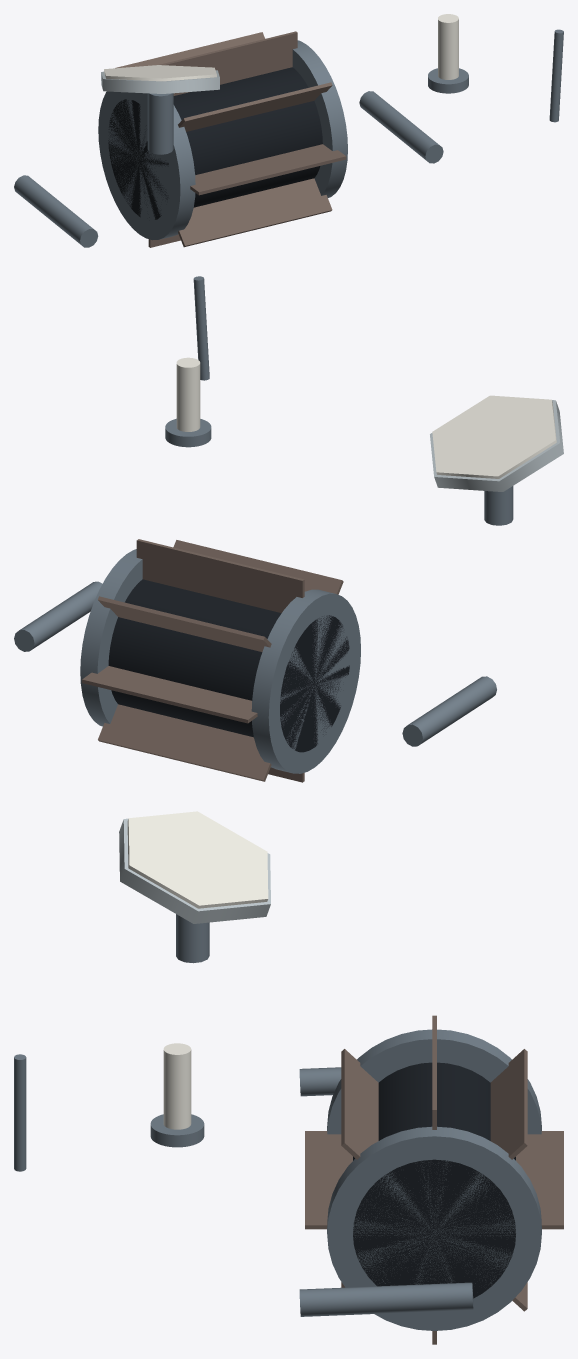
Rendered from perseverance_power_comms.glb.
3 views of the same model, one above another, from view 1: azimuth 30°, elevation 25°; view 2: azimuth 150°, elevation 25°; view 3: azimuth 270°, elevation 25° (orthographic). The views are drawn at different scales.
Parts seen in each view (by area): view 1: perseverance_power_comms.mmrtg.mesh_Heat-stained_alloy, perseverance_power_comms.mmrtg.mesh_Carbon_composite, perseverance_power_comms.mmrtg.mesh_Machined_steel, perseverance_power_comms.mesh_Machined_steel, perseverance_power_comms.high_gain.mesh_Machined_steel, perseverance_power_comms.high_gain.elevation.mesh_Satin_alum, perseverance_power_comms.high_gain.elevation.mesh_Warm_white, perseverance_power_comms.low_gain.mesh_Warm_white_enamel, perseverance_power_comms.uhf.mesh_Machined_steel, perseverance_power_comms.low_gain.mesh_Machined_steel; view 2: perseverance_power_comms.mmrtg.mesh_Heat-stained_alloy, perseverance_power_comms.mmrtg.mesh_Carbon_composite, perseverance_power_comms.mmrtg.mesh_Machined_steel, perseverance_power_comms.high_gain.elevation.mesh_Warm_white, perseverance_power_comms.mesh_Machined_steel, perseverance_power_comms.high_gain.elevation.mesh_Satin_alum, perseverance_power_comms.low_gain.mesh_Warm_white_enamel, perseverance_power_comms.uhf.mesh_Machined_steel, perseverance_power_comms.high_gain.mesh_Machined_steel, perseverance_power_comms.low_gain.mesh_Machined_steel; view 3: perseverance_power_comms.mmrtg.mesh_Machined_steel, perseverance_power_comms.mmrtg.mesh_Carbon_composite, perseverance_power_comms.mmrtg.mesh_Heat-stained_alloy, perseverance_power_comms.high_gain.elevation.mesh_Warm_white, perseverance_power_comms.mesh_Machined_steel, perseverance_power_comms.high_gain.elevation.mesh_Satin_alum, perseverance_power_comms.low_gain.mesh_Warm_white_enamel, perseverance_power_comms.uhf.mesh_Machined_steel, perseverance_power_comms.high_gain.mesh_Machined_steel, perseverance_power_comms.low_gain.mesh_Machined_steel.
Part boxes in pixels (bbox=[...]): perseverance_power_comms.mmrtg.mesh_Heat-stained_alloy: bbox=[115, 31, 346, 247]; perseverance_power_comms.mmrtg.mesh_Carbon_composite: bbox=[108, 67, 322, 219]; perseverance_power_comms.mmrtg.mesh_Machined_steel: bbox=[98, 40, 347, 240]; perseverance_power_comms.mesh_Machined_steel: bbox=[14, 91, 443, 247]; perseverance_power_comms.high_gain.mesh_Machined_steel: bbox=[147, 93, 173, 154]; perseverance_power_comms.high_gain.elevation.mesh_Satin_alum: bbox=[101, 70, 219, 93]; perseverance_power_comms.high_gain.elevation.mesh_Warm_white: bbox=[104, 65, 216, 81]; perseverance_power_comms.low_gain.mesh_Warm_white_enamel: bbox=[438, 14, 458, 79]; perseverance_power_comms.uhf.mesh_Machined_steel: bbox=[549, 29, 563, 122]; perseverance_power_comms.low_gain.mesh_Machined_steel: bbox=[428, 68, 468, 93]; perseverance_power_comms.mmrtg.mesh_Heat-stained_alloy: bbox=[82, 539, 343, 782]; perseverance_power_comms.mmrtg.mesh_Carbon_composite: bbox=[108, 579, 349, 752]; perseverance_power_comms.mmrtg.mesh_Machined_steel: bbox=[80, 549, 360, 773]; perseverance_power_comms.high_gain.elevation.mesh_Warm_white: bbox=[432, 395, 556, 478]; perseverance_power_comms.mesh_Machined_steel: bbox=[14, 581, 496, 746]; perseverance_power_comms.high_gain.elevation.mesh_Satin_alum: bbox=[430, 400, 563, 491]; perseverance_power_comms.low_gain.mesh_Warm_white_enamel: bbox=[176, 357, 200, 431]; perseverance_power_comms.uhf.mesh_Machined_steel: bbox=[193, 276, 209, 380]; perseverance_power_comms.high_gain.mesh_Machined_steel: bbox=[484, 486, 513, 525]; perseverance_power_comms.low_gain.mesh_Machined_steel: bbox=[165, 418, 211, 447]; perseverance_power_comms.mmrtg.mesh_Machined_steel: bbox=[327, 1029, 541, 1330]; perseverance_power_comms.mmrtg.mesh_Carbon_composite: bbox=[353, 1062, 515, 1298]; perseverance_power_comms.mmrtg.mesh_Heat-stained_alloy: bbox=[305, 1015, 563, 1344]; perseverance_power_comms.high_gain.elevation.mesh_Warm_white: bbox=[127, 811, 268, 908]; perseverance_power_comms.mesh_Machined_steel: bbox=[299, 1067, 473, 1316]; perseverance_power_comms.high_gain.elevation.mesh_Satin_alum: bbox=[119, 818, 270, 923]; perseverance_power_comms.low_gain.mesh_Warm_white_enamel: bbox=[163, 1043, 191, 1129]; perseverance_power_comms.uhf.mesh_Machined_steel: bbox=[14, 1054, 26, 1171]; perseverance_power_comms.high_gain.mesh_Machined_steel: bbox=[176, 914, 209, 963]; perseverance_power_comms.low_gain.mesh_Machined_steel: bbox=[150, 1114, 204, 1147].
Bounding box in the file's own units: 1.55 × 1.05 × 1.43.
